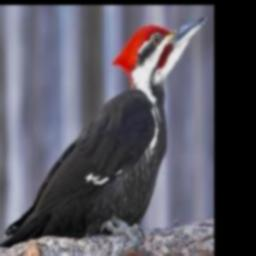Woodpecker: (0, 15, 207, 249)
